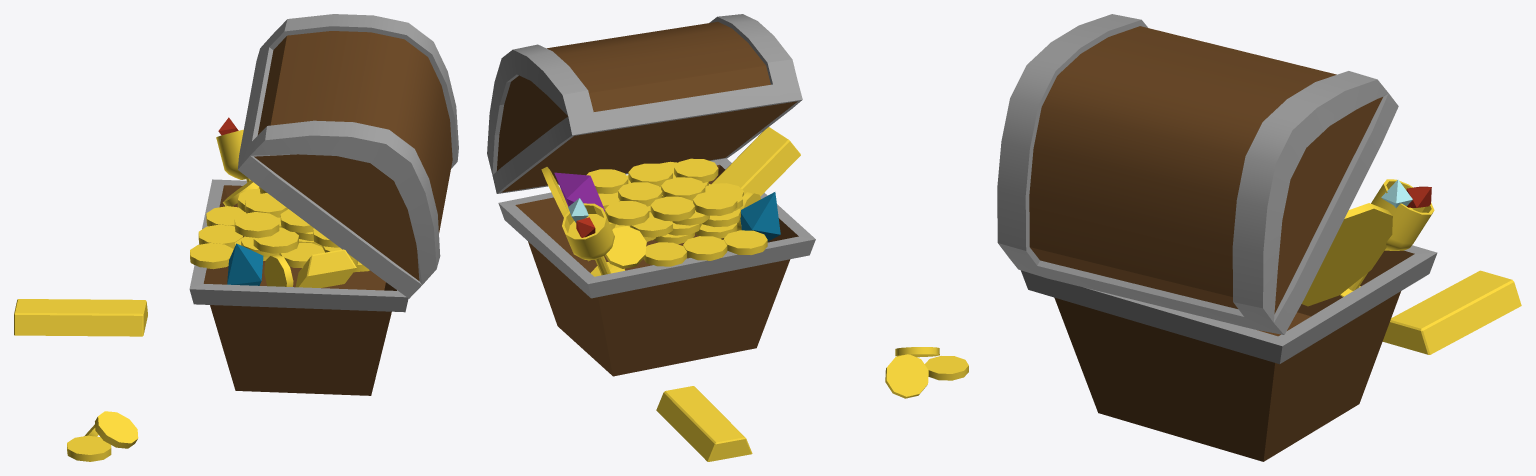
The model's file is Treasure_Chest.FBX.
3 views of the same model, side by side, from view 1: azimuth 30°, elevation 25°; view 2: azimuth 150°, elevation 25°; view 3: azimuth 270°, elevation 25° (orthographic). The views are drawn at different scales.
Visible parts, largest first — view 1: Box071, Box070, Box073, Box072, Hedra004, Cylinder136, Cylinder128, Cylinder135, Cylinder133, Cylinder025, Cylinder120, Cylinder138 (+5 smaller); view 2: Box071, Box070, Box073, Box072, Cylinder025, Cylinder134, Cylinder137, Hedra004, Hedra001, Cylinder124, Cylinder126, Cylinder128 (+11 smaller); view 3: Box071, Box070, Box073, Cylinder130, Cylinder025.
Boxes of the visible parts, x1,y1,x2,y2 form: Box071: [237, 14, 458, 298]; Box070: [189, 179, 408, 395]; Box073: [14, 299, 147, 336]; Box072: [295, 249, 356, 287]; Hedra004: [227, 243, 263, 285]; Cylinder136: [95, 411, 138, 448]; Cylinder128: [234, 212, 279, 238]; Cylinder135: [67, 435, 111, 461]; Cylinder133: [190, 243, 233, 269]; Cylinder025: [216, 129, 259, 188]; Cylinder120: [253, 227, 298, 253]; Cylinder138: [264, 254, 293, 286]; Box071: [487, 14, 802, 193]; Box070: [498, 158, 815, 376]; Box073: [656, 386, 752, 461]; Box072: [711, 127, 800, 196]; Cylinder025: [562, 203, 624, 276]; Cylinder134: [885, 354, 928, 398]; Cylinder137: [605, 226, 646, 268]; Hedra004: [740, 192, 780, 241]; Hedra001: [554, 172, 604, 211]; Cylinder124: [650, 196, 694, 221]; Cylinder126: [605, 201, 649, 225]; Cylinder128: [693, 191, 737, 215]; Box071: [997, 14, 1398, 334]; Box070: [1021, 245, 1437, 461]; Box073: [1382, 270, 1521, 354]; Cylinder130: [1302, 203, 1392, 306]; Cylinder025: [1340, 179, 1434, 296].
Bounding box in the file's own units: 53.08 × 35.5 × 44.32.
